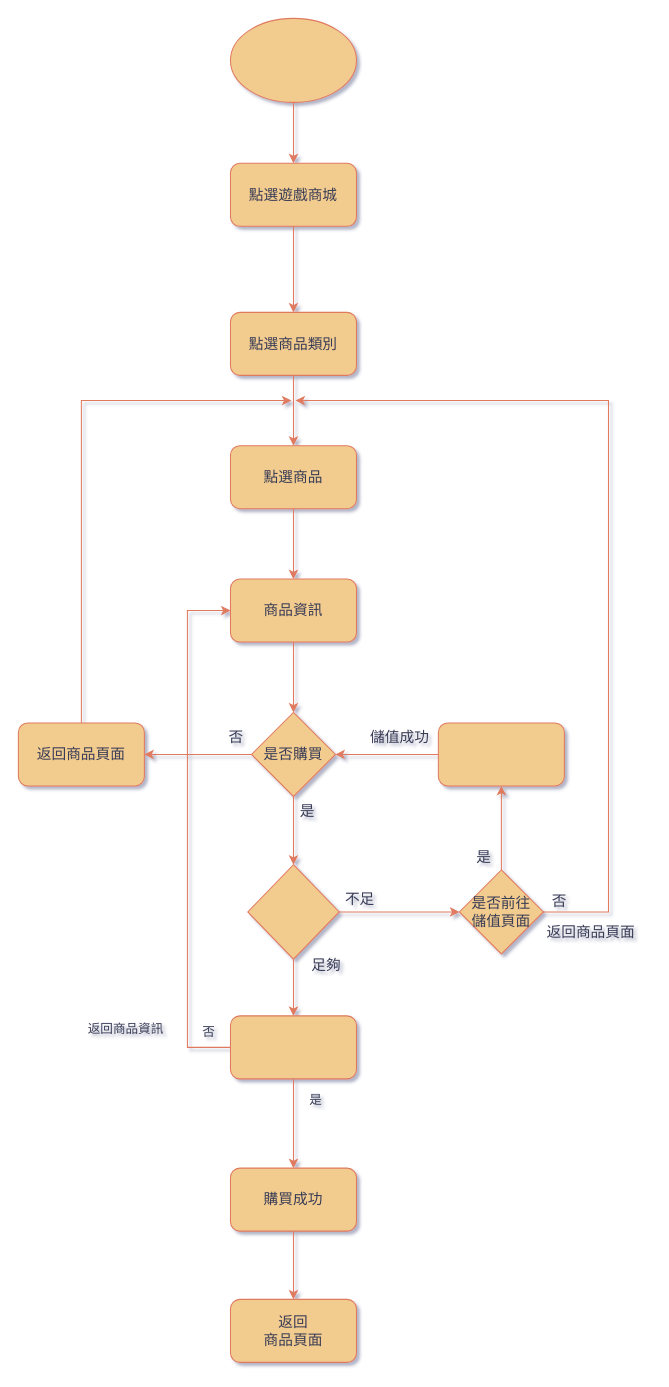
This 669x1387 diagram has some shape labels left out. Here are the shapes that lost their labels. From the top down, the centre of each, then its label:
At pixel 292 59: "(遊戲頁面) 遊戲商城".
At pixel 500 754: "儲值頁面 (跳轉頁面)".
At pixel 293 911: "檢查 貓幣||紅利 是否足夠".
At pixel 292 1047: "顯示是否購買".
